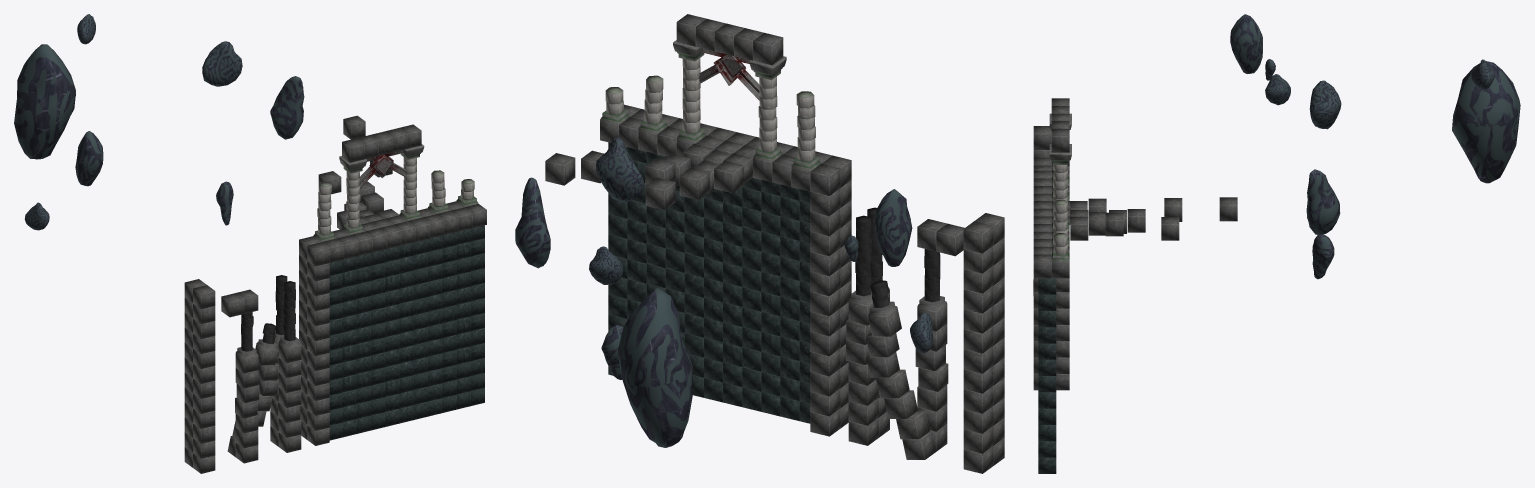
Rendered from decors_04.fbx.
The picture shows the model from 3 angles, left to right: view 1: azimuth 30°, elevation 25°; view 2: azimuth 150°, elevation 25°; view 3: azimuth 270°, elevation 25°; orthographic projection. The views are drawn at different scales.
Visible parts, largest first — view 1: HR_T_rocher_18, HR_T_rocher_14, HR_T_rocher_15, HR_T_colonneArriere_11, HR_T_rocher_13, HR_T_colonneArriere_12, HR_T_colonnes_9, HR_T_colonneArriere_13, HR_T_arche_1, HR_T_colonneArriere_14, HR_T_colonnes_8, HR_T_colonnes_11 (+2 smaller); view 2: HR_T_rocher_18, HR_T_rocher_14, HR_T_rocher_13, HR_T_colonneArriere_11, HR_T_colonneArriere_12, HR_T_rocher_15, HR_T_colonneArriere_13, HR_T_colonnes_11, HR_T_arche_1, HR_T_colonneArriere_14, HR_T_colonnes_8, HR_T_rocher_24 (+58 smaller); view 3: HR_T_rocher_18, HR_T_rocher_14, HR_T_rocher_13, HR_T_rocher_15, HR_T_colonneArriere_12, HR_T_rocher_23, HR_T_rocher_17, HR_T_colonneArriere_14, HR_T_rocher_24.
Part boxes in pixels (box(x1,y1,x2,y2)): HR_T_rocher_18: box(14, 44, 75, 159); HR_T_rocher_14: box(270, 76, 304, 139); HR_T_rocher_15: box(202, 41, 242, 86); HR_T_colonneArriere_11: box(339, 156, 366, 234); HR_T_rocher_13: box(75, 131, 103, 186); HR_T_colonneArriere_12: box(399, 144, 424, 220); HR_T_colonnes_9: box(279, 281, 300, 348); HR_T_colonneArriere_13: box(313, 182, 335, 241); HR_T_arche_1: box(359, 150, 406, 188); HR_T_colonneArriere_14: box(428, 170, 449, 213); HR_T_colonnes_8: box(236, 312, 257, 358); HR_T_colonnes_11: box(275, 275, 287, 341); HR_T_rocher_18: box(617, 287, 692, 447); HR_T_rocher_14: box(515, 177, 550, 268); HR_T_rocher_13: box(875, 189, 912, 266); HR_T_colonneArriere_11: box(749, 56, 786, 161); HR_T_colonneArriere_12: box(673, 40, 706, 143); HR_T_rocher_15: box(595, 137, 644, 201); HR_T_colonneArriere_13: box(791, 91, 821, 171); HR_T_colonnes_11: box(849, 215, 872, 305); HR_T_arche_1: box(698, 48, 759, 100); HR_T_colonneArriere_14: box(638, 75, 667, 134); HR_T_colonnes_8: box(917, 249, 946, 311); HR_T_rocher_24: box(589, 246, 623, 284); HR_T_rocher_18: box(1452, 61, 1520, 183); HR_T_rocher_14: box(1306, 169, 1340, 235); HR_T_rocher_13: box(1230, 14, 1262, 73); HR_T_rocher_15: box(1309, 80, 1341, 129); HR_T_colonneArriere_12: box(1049, 144, 1071, 231); HR_T_rocher_23: box(1312, 234, 1334, 279); HR_T_rocher_17: box(1265, 74, 1290, 105); HR_T_colonneArriere_14: box(1051, 199, 1069, 246); HR_T_rocher_24: box(1471, 59, 1494, 89).
Size of the model in its own units: 2420 by 2013 by 2707.
